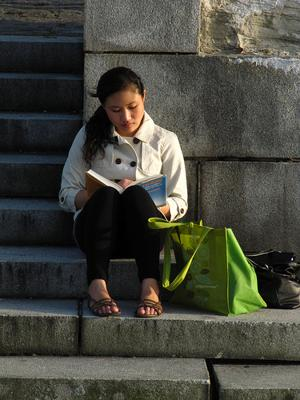person: (58, 68, 189, 319)
